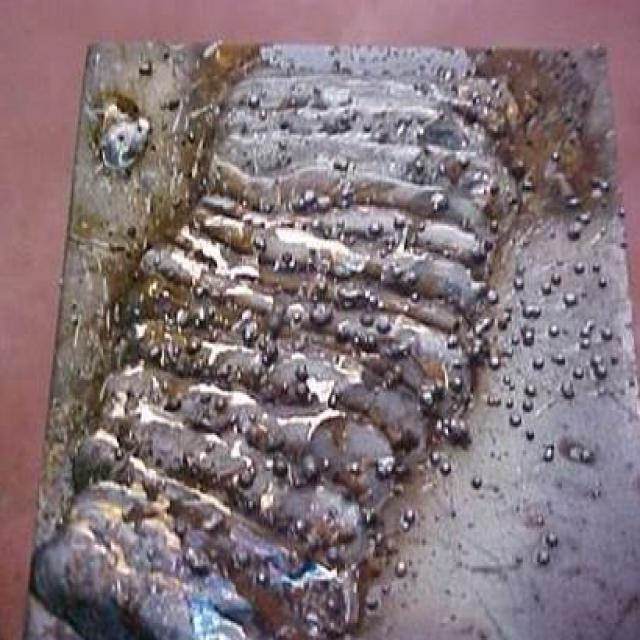Bad Welding: (86, 34, 566, 638)
Spatters: (508, 262, 630, 482), (559, 176, 616, 245), (289, 186, 338, 216), (534, 530, 562, 569), (292, 362, 313, 401), (429, 190, 454, 219), (310, 301, 337, 324), (301, 450, 321, 481), (375, 309, 396, 335), (241, 318, 262, 340), (561, 286, 581, 308), (570, 258, 587, 276), (468, 475, 486, 489)
